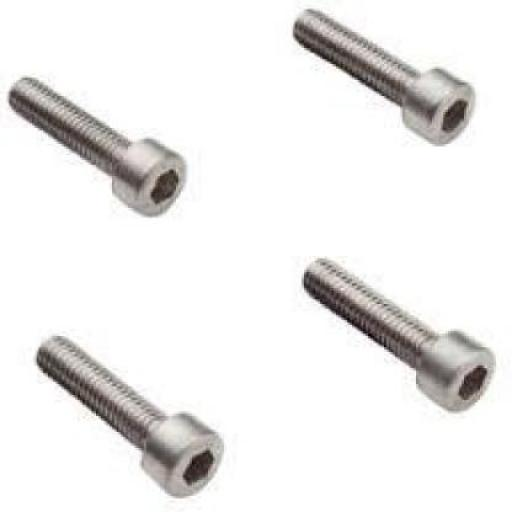Bolt: (34, 334, 225, 500), (301, 257, 497, 414), (7, 76, 190, 219), (291, 8, 477, 147)
